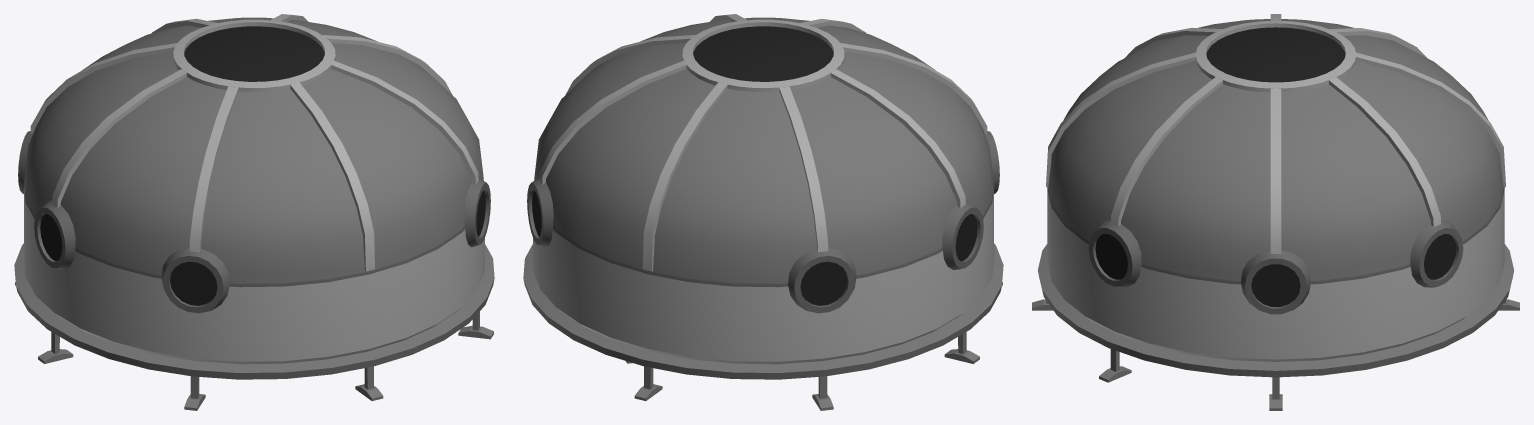
The model's file is base_station.glb.
3 views of the same model, side by side, from view 1: azimuth 30°, elevation 25°; view 2: azimuth 150°, elevation 25°; view 3: azimuth 270°, elevation 25° (orthographic).
Parts seen in each view (by area): view 1: Base_Large; view 2: Base_Large; view 3: Base_Large.
Part boxes in pixels (left/top/right/bottom): Base_Large: left=14, top=14, right=494, bottom=410; Base_Large: left=523, top=14, right=1003, bottom=410; Base_Large: left=1032, top=14, right=1519, bottom=410.
Size of the model in its own units: 8.53 by 4.97 by 8.53.
Materials: 1 (1 with a texture image).
